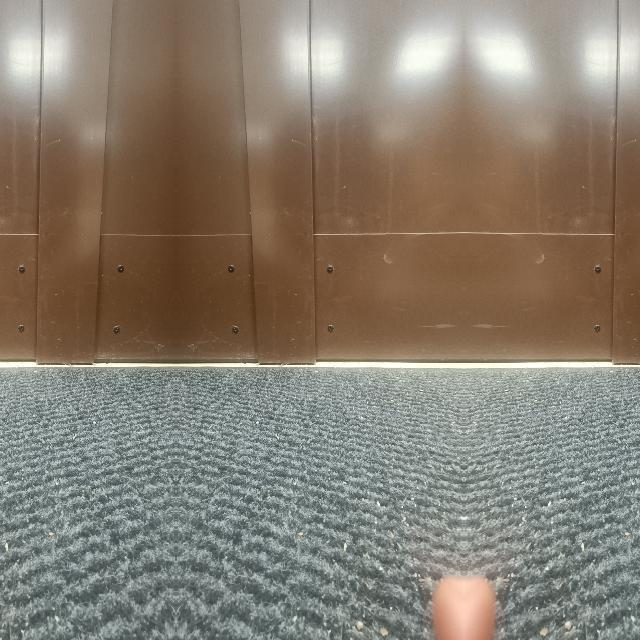obstacle: (175, 150, 462, 366), (0, 149, 175, 366), (465, 149, 640, 366)
